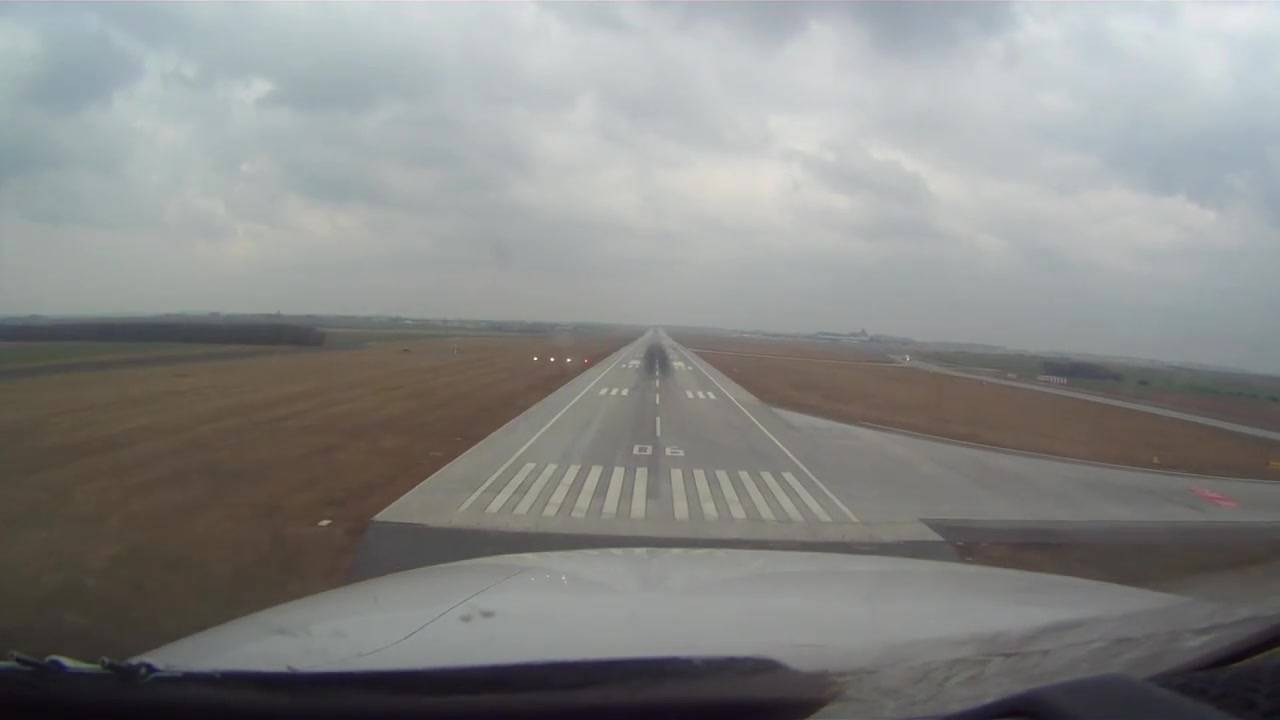entrance: (479, 461, 833, 522)
runway: (378, 325, 928, 545)
